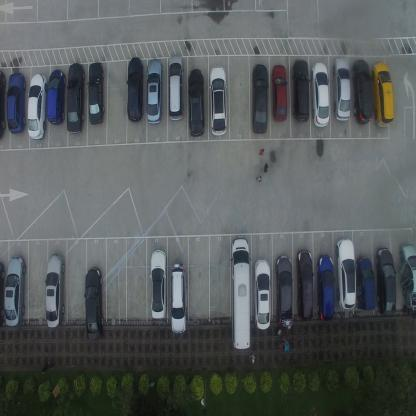car: (230, 236, 250, 350), (44, 252, 66, 329), (372, 58, 394, 128), (374, 246, 396, 316), (5, 254, 26, 327), (335, 238, 356, 309), (66, 62, 86, 134), (352, 59, 374, 124), (27, 72, 48, 140), (84, 266, 103, 341), (274, 255, 293, 329), (209, 64, 228, 137), (310, 61, 330, 128), (296, 249, 314, 322), (186, 68, 205, 137), (170, 262, 188, 334), (316, 254, 335, 321), (398, 241, 416, 311), (253, 258, 270, 331), (6, 72, 26, 134), (291, 58, 310, 123), (166, 53, 184, 121), (251, 62, 268, 134), (332, 56, 351, 120), (150, 249, 167, 320), (355, 255, 376, 311), (127, 56, 144, 123), (146, 58, 163, 124), (46, 69, 66, 125), (88, 60, 104, 126), (271, 63, 287, 124), (0, 70, 6, 140), (0, 260, 5, 326)
